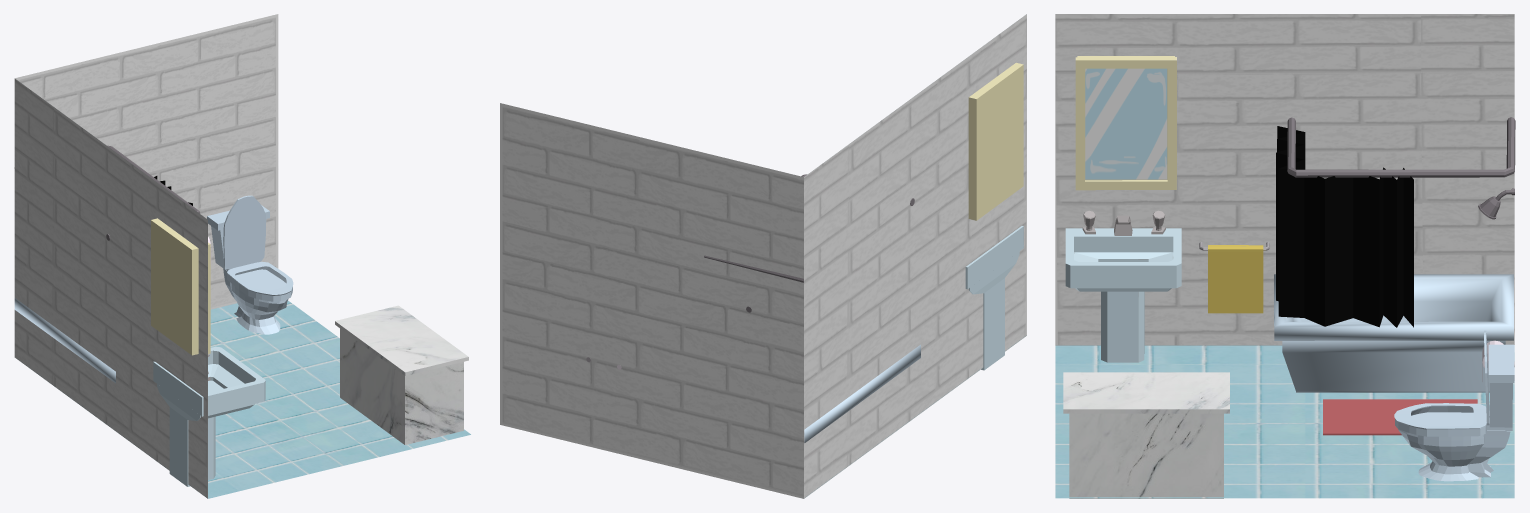
Rendered from BathroomGBFILE.glb.
3 renders of one model, left to right at view 1: azimuth 30°, elevation 25°; view 2: azimuth 150°, elevation 25°; view 3: azimuth 270°, elevation 25°, orthographic. The views are drawn at different scales.
Visible parts, largest first — view 1: Cube, Dresser, Toilet, Sink, Mirror, Tub; view 2: Cube, Mirror, Sink, Tub; view 3: Cube, Curtains, Dresser, Tub, Mirror, Sink, Toilet, Towel, Mat, Shower Rod.
Boxes of the visible parts, x1,y1,x2,y2 form: Cube: [14, 14, 470, 498]; Dresser: [335, 305, 468, 444]; Toilet: [207, 195, 293, 334]; Sink: [153, 346, 265, 486]; Mirror: [151, 218, 210, 355]; Tub: [14, 298, 115, 383]; Cube: [500, 14, 1026, 498]; Mirror: [968, 62, 1023, 220]; Sink: [965, 226, 1023, 370]; Tub: [804, 344, 920, 442]; Cube: [1055, 14, 1514, 498]; Curtains: [1276, 126, 1413, 327]; Dresser: [1063, 372, 1229, 498]; Tub: [1274, 274, 1513, 392]; Mirror: [1075, 56, 1176, 190]; Sink: [1065, 210, 1181, 362]; Toilet: [1394, 330, 1514, 481]; Towel: [1199, 242, 1269, 313]; Mat: [1323, 399, 1477, 435]; Shower Rod: [1287, 117, 1515, 177].
Bounding box in the file's own units: 7.24 × 7.25 × 8.96.
12 materials, 12 textured.
